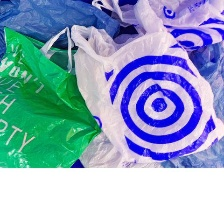plastic_bag: (69, 1, 222, 165), (0, 24, 101, 169), (159, 36, 224, 167), (0, 0, 124, 63), (91, 0, 224, 52), (72, 115, 164, 170)
